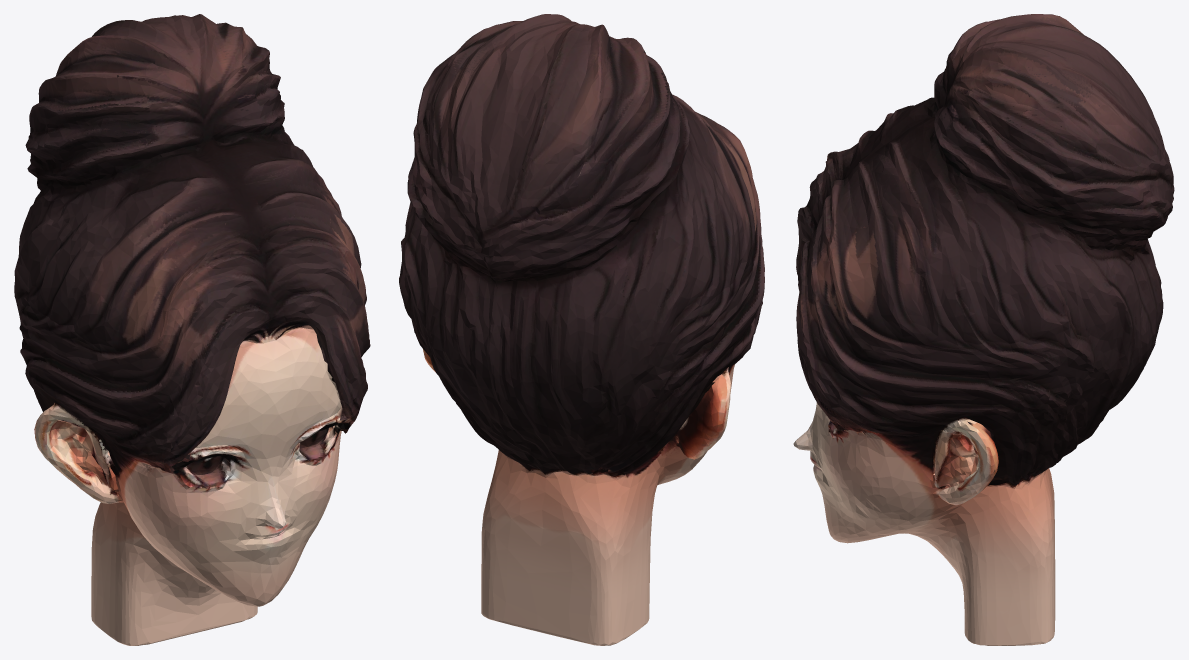
The model's file is side_miko_repaired_atlas.glb.
3 views of the same model, side by side, from view 1: azimuth 30°, elevation 25°; view 2: azimuth 150°, elevation 25°; view 3: azimuth 270°, elevation 25° (orthographic). The views are drawn at different scales.
Parts seen in each view (by area): view 1: temp_mesh.ply; view 2: temp_mesh.ply; view 3: temp_mesh.ply.
Part boxes in pixels (x1,y1,x2,y2): temp_mesh.ply: [14, 14, 370, 645]; temp_mesh.ply: [399, 14, 764, 645]; temp_mesh.ply: [793, 14, 1174, 645].
Size of the model in its own units: 0.8554 by 1.61 by 0.9544.
1 material, 1 textured.
